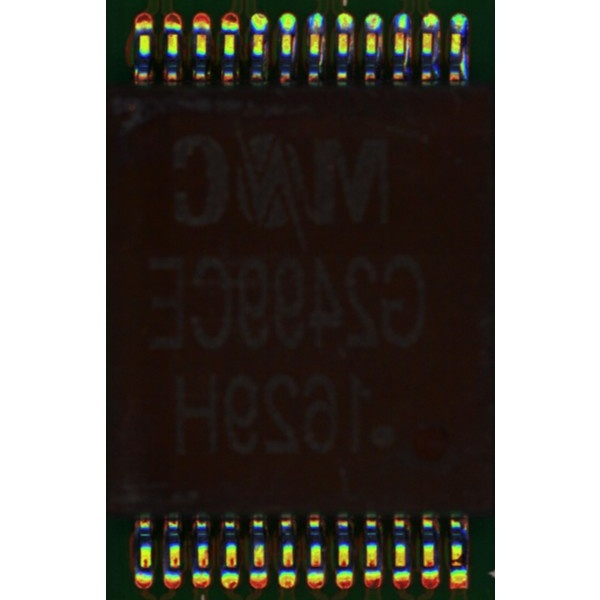Bad_qiaojiao: (320, 33, 326, 71), (404, 33, 410, 69), (377, 33, 383, 62), (292, 34, 297, 62), (349, 34, 354, 62)
